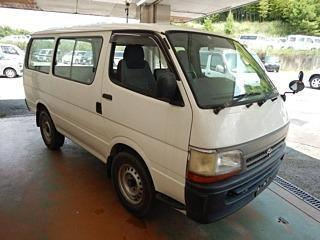van: (22, 22, 289, 213)
